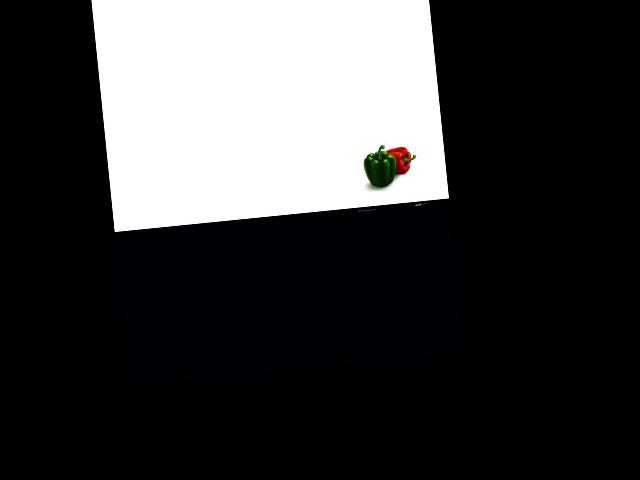bell_pepper: (384, 142, 417, 174)
